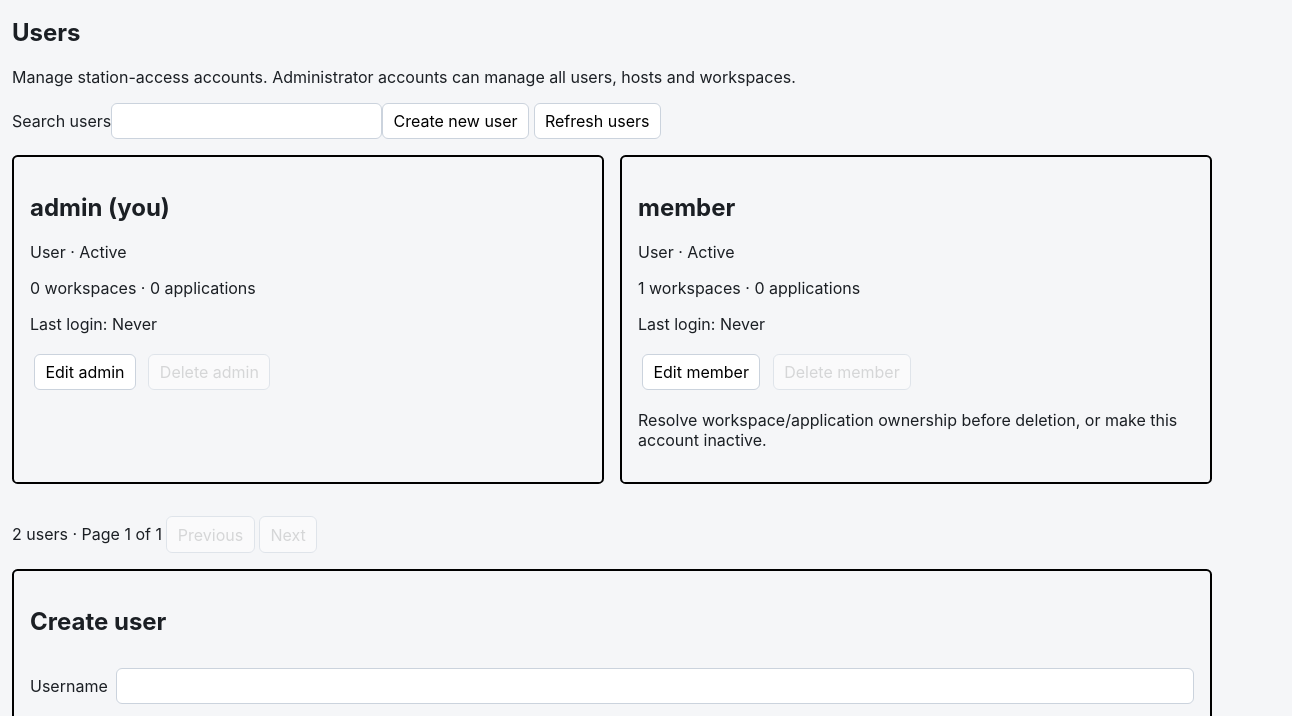
Scenario: self and owned accounts have deletion guards
Expected: the heading "admin (you)" is shown, [30,193,170,222]
Expected: the button "Delete admin" is disabled, [148,354,270,390]
Click the button "Edit admin".
click(85, 372)  # box [34,354,136,390]
(page scrolled)
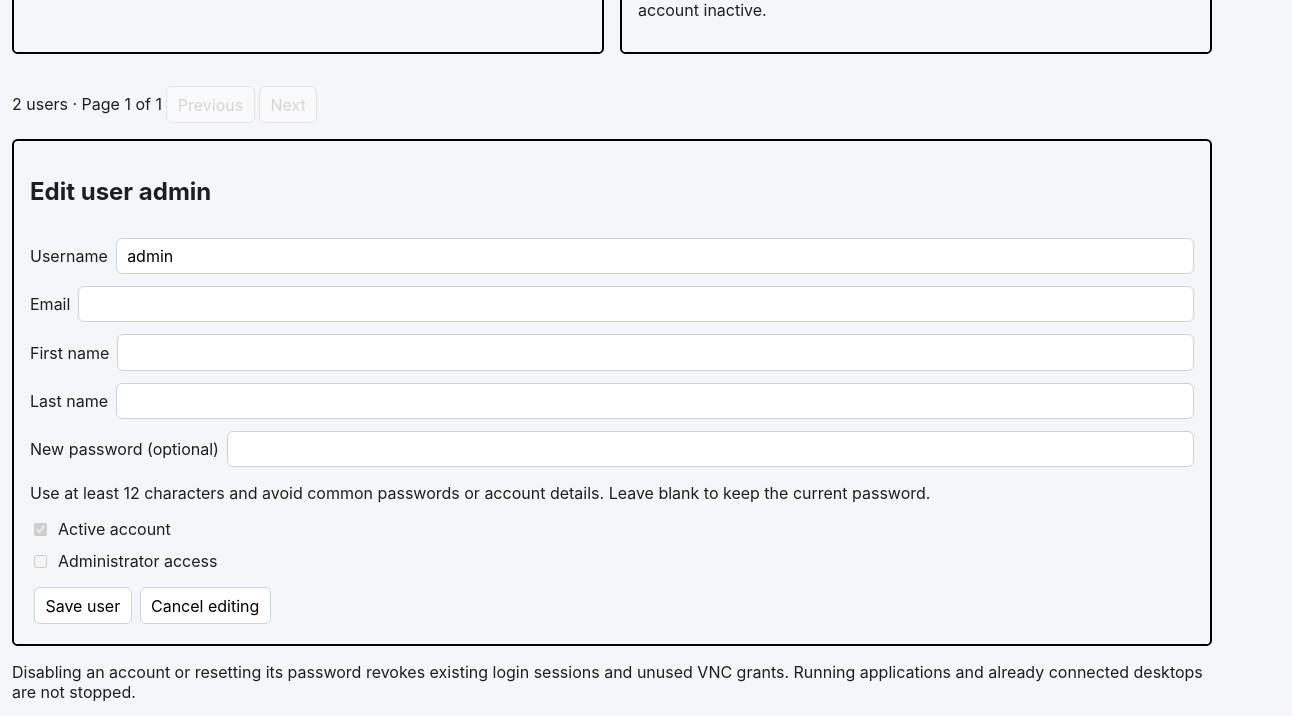
Expected: the checkbox labelled "Administrator access" is disabled, [34,555,47,568]
Expected: the checkbox labelled "Active account" is disabled, [34,523,47,536]
